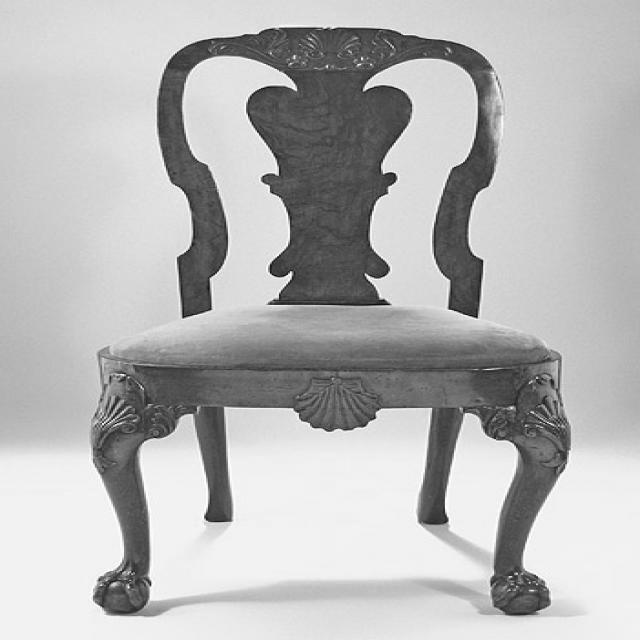chair: (81, 23, 576, 622)
